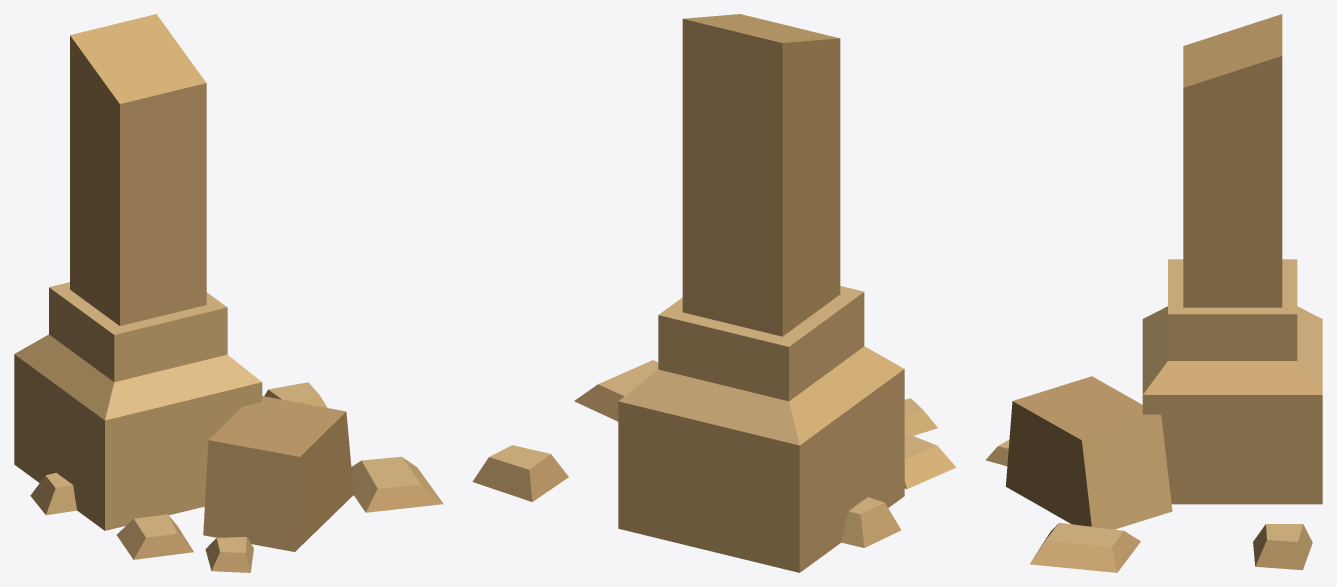
Rendered from ST_Env_Pillar_02.fbx.
3 views of the same model, side by side, from view 1: azimuth 30°, elevation 25°; view 2: azimuth 150°, elevation 25°; view 3: azimuth 270°, elevation 25° (orthographic). The views are drawn at different scales.
Parts seen in each view (by area): view 1: ST_Env_Pillar_02; view 2: ST_Env_Pillar_02; view 3: ST_Env_Pillar_02.
Boxes of the visible parts, <box> form: ST_Env_Pillar_02: <box>14,14,443,572</box>; ST_Env_Pillar_02: <box>472,14,956,572</box>; ST_Env_Pillar_02: <box>986,14,1322,572</box>.
Size of the model in its own units: 2.08 by 2.65 by 1.88.
